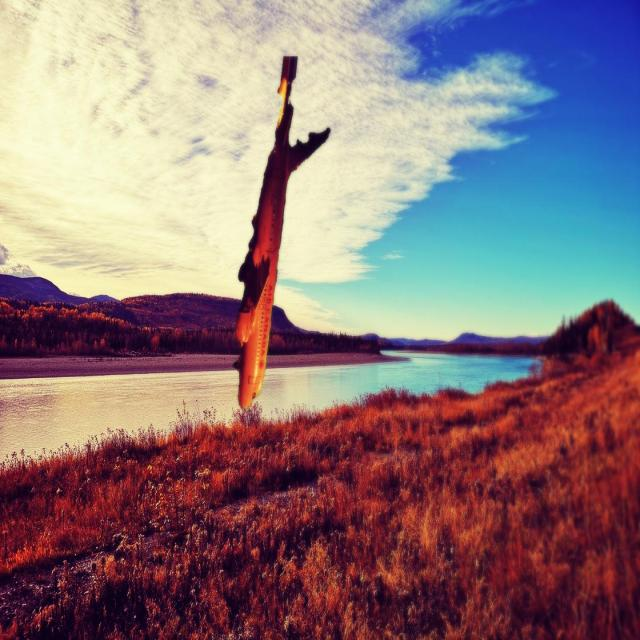airplane: (233, 55, 331, 410)
